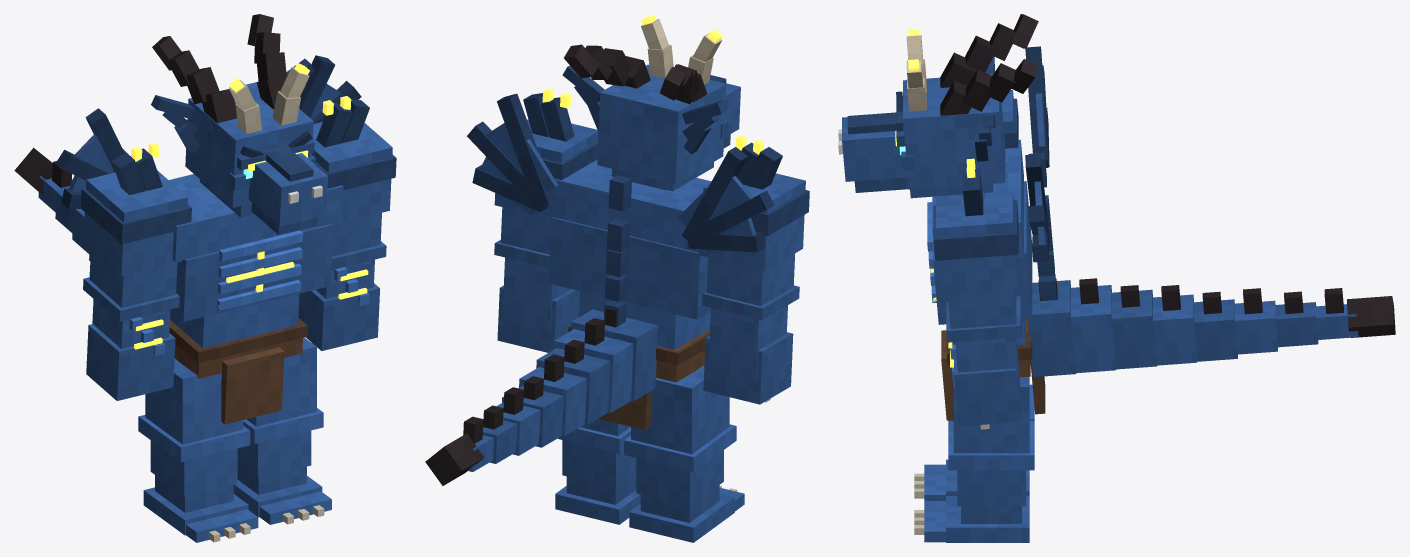
The model's file is dragonoid_base_v3_evo2.glb.
3 views of the same model, side by side, from view 1: azimuth 30°, elevation 25°; view 2: azimuth 150°, elevation 25°; view 3: azimuth 270°, elevation 25° (orthographic).
Parts seen in each view (by area): view 1: Torso, Head, ArmR, ArmL, LegR, LegL, Root; view 2: Torso, Head, ArmR, LegR, ArmL, LegL; view 3: Torso, Head, ArmL, LegL, LegR, ArmR.
Boxes of the visible parts, bbox=[...] form: Torso: bbox=[14, 55, 361, 424]; Head: bbox=[151, 14, 328, 234]; ArmR: bbox=[80, 142, 191, 400]; ArmL: bbox=[298, 96, 396, 350]; LegR: bbox=[138, 358, 258, 542]; LegL: bbox=[233, 337, 331, 524]; Root: bbox=[209, 505, 324, 542]; Torso: bbox=[425, 93, 774, 485]; Head: bbox=[562, 14, 740, 191]; ArmR: bbox=[702, 136, 809, 404]; LegR: bbox=[624, 365, 744, 542]; ArmL: bbox=[494, 88, 598, 352]; LegL: bbox=[555, 418, 640, 524]; Torso: bbox=[927, 46, 1395, 420]; Head: bbox=[838, 14, 1038, 198]; ArmL: bbox=[933, 158, 1021, 429]; LegL: bbox=[924, 376, 1034, 542]; LegR: bbox=[924, 384, 1034, 500]; ArmR: bbox=[1001, 89, 1018, 148].
Bounding box in the file's own units: 1.38 × 2.05 × 2.2.
Materials: 33 (33 with a texture image).
